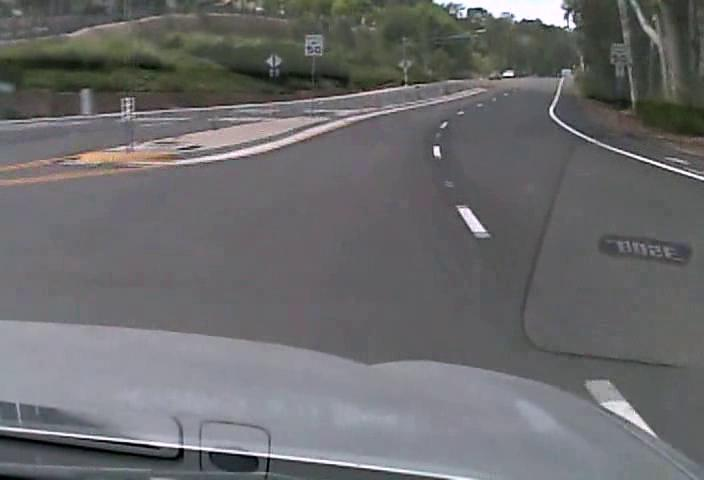speedLimitUrdbl: (304, 33, 324, 55)
